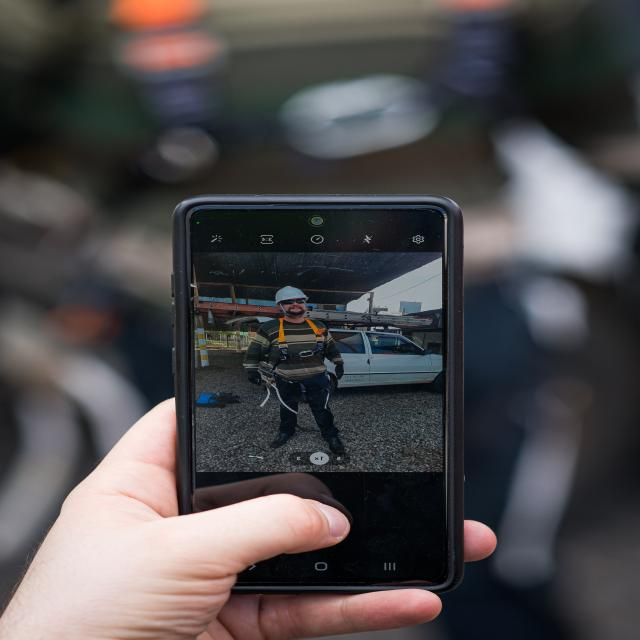botas: (266, 422, 304, 451), (322, 426, 346, 457)
capacete: (269, 284, 313, 304)
corda de vida: (261, 312, 341, 416)
luva: (244, 365, 268, 387), (335, 360, 349, 380)
